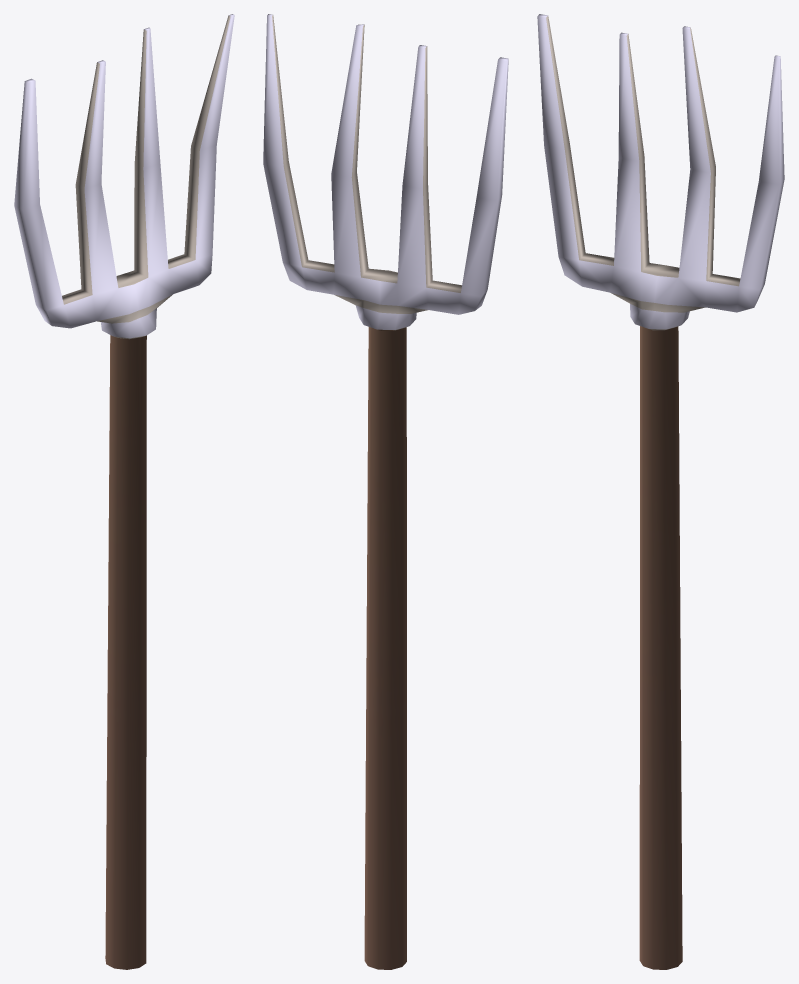
Rendered from pitchfork.fbx.
The picture shows the model from 3 angles, left to right: view 1: azimuth 30°, elevation 25°; view 2: azimuth 150°, elevation 25°; view 3: azimuth 330°, elevation 25°; orthographic projection.
Visible parts, largest first — view 1: Pitchfork; view 2: Pitchfork; view 3: Pitchfork.
Part boxes in pixels (<box>): Pitchfork: <box>14,14,234,969</box>; Pitchfork: <box>263,14,508,969</box>; Pitchfork: <box>537,14,784,969</box>.
Size of the model in its own units: 70.34 by 278 by 19.69.
